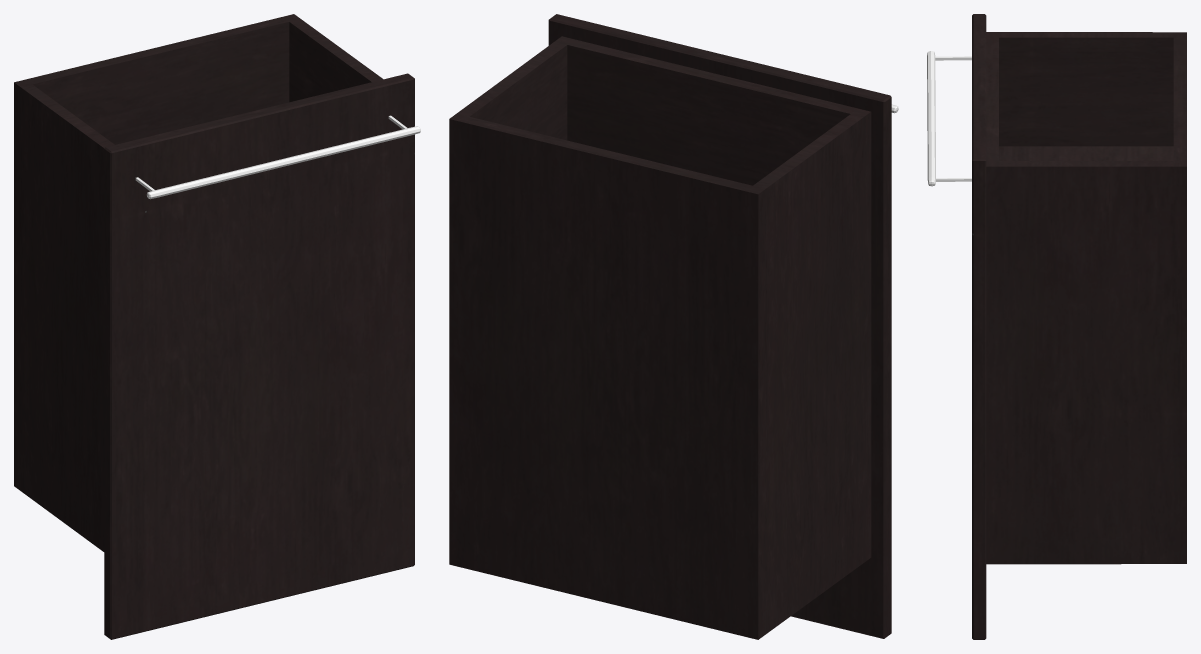
The model's file is Drawer_ada4d0ff.obj.
3 renders of one model, left to right at view 1: azimuth 30°, elevation 25°; view 2: azimuth 150°, elevation 25°; view 3: azimuth 270°, elevation 25°, orthographic. The views are drawn at different scales.
Visible parts, largest first — view 1: DrawerMesh_01_0320e780, CabineDoorHandle2_01_5af3f854; view 2: DrawerMesh_01_0320e780; view 3: DrawerMesh_01_0320e780, CabineDoorHandle2_01_5af3f854.
Part boxes in pixels (box(x1,y1,x2,y2)): DrawerMesh_01_0320e780: box(14, 14, 414, 639); CabineDoorHandle2_01_5af3f854: box(135, 115, 420, 199); DrawerMesh_01_0320e780: box(449, 14, 891, 639); DrawerMesh_01_0320e780: box(972, 14, 1186, 639); CabineDoorHandle2_01_5af3f854: box(927, 51, 971, 186).
Size of the model in its own units: 0.49 by 0.75 by 0.3676.
